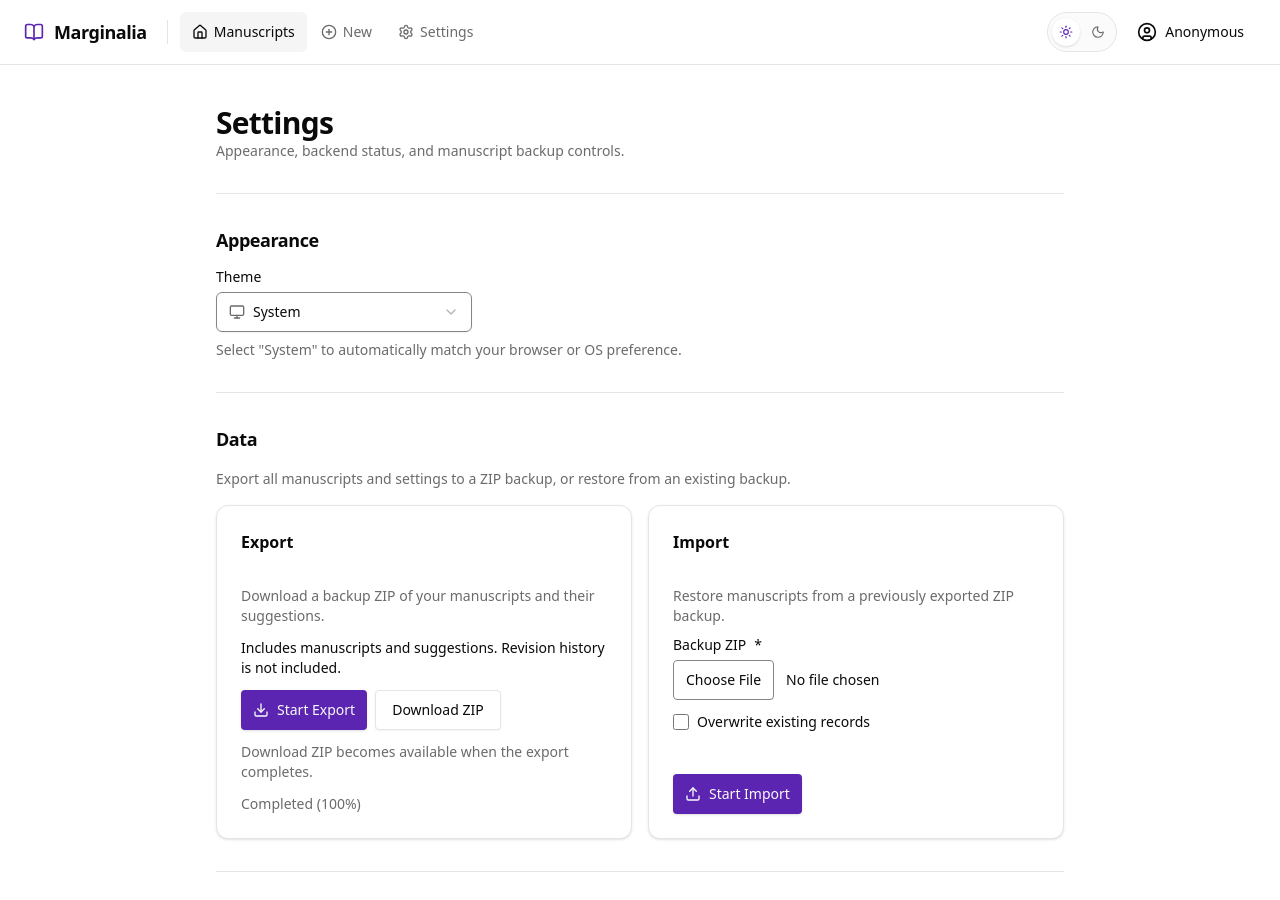
it: SettingsPage › reports download failures without an unhandled rejection
Step 1. Click the button "Download ZIP" → click(438, 710), box [375,690,501,730]
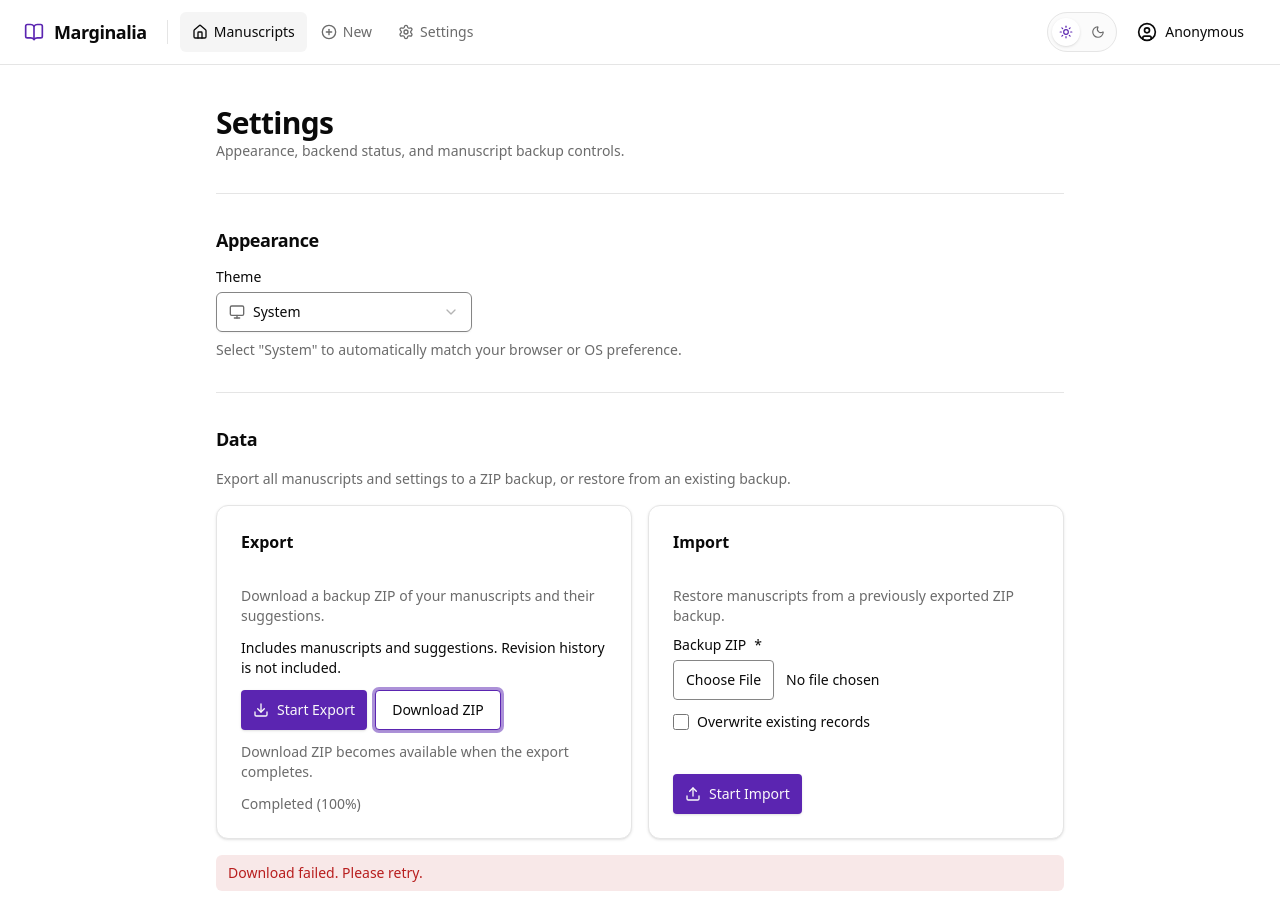
Result: the message "Download failed. Please retry." is shown at [216,855,1064,891]
